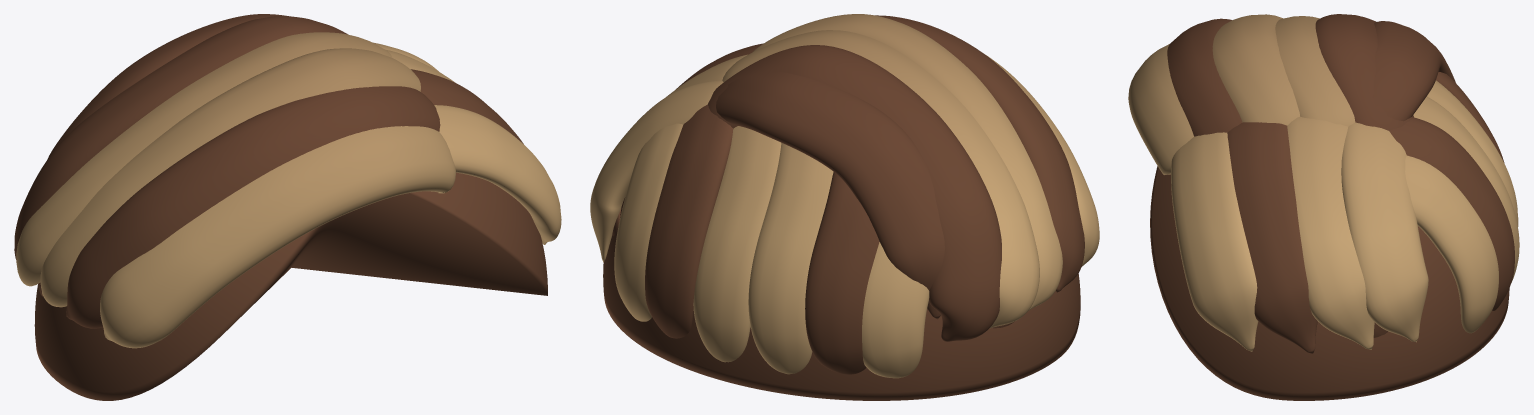
File: Highlights-05e11d5b8a1c251-hair.glb
3 views of the same model, side by side, from view 1: azimuth 30°, elevation 25°; view 2: azimuth 150°, elevation 25°; view 3: azimuth 270°, elevation 25° (orthographic). The views are drawn at different scales.
Visible parts, largest first — view 1: Recessed roots, Hair / Side part main 0, Hair / Side part main 1, Hair / Side part main 2, Hair / Side part main 3, Hair / Side part main 4, Hair / Side part short 0, Hair / Side part crown, Hair / Side part short 1, Hair / Side part short 2; view 2: Hair / Side part crown, Recessed roots, Hair / Side part main 4, Hair / Side part nape 2, Hair / Side part nape 3, Hair / Side part main 3, Hair / Side part nape 4, Hair / Side part main 2, Hair / Side part nape 1, Hair / Side part main 1, Hair / Side part nape 0, Hair / Side part nape 5 (+4 smaller); view 3: Recessed roots, Hair / Side part short 3, Hair / Side part short 0, Hair / Side part short 1, Hair / Side part short 2, Hair / Side part nape 5, Hair / Side part main 2, Hair / Side part nape 4, Hair / Side part main 1, Hair / Side part crown, Hair / Side part main 4, Hair / Side part main 3 (+4 smaller).
Part boxes in pixels (bbox=[...]): Recessed roots: bbox=[34, 172, 547, 400]; Hair / Side part main 0: bbox=[100, 126, 455, 348]; Hair / Side part main 1: bbox=[66, 86, 440, 328]; Hair / Side part main 2: bbox=[40, 48, 420, 307]; Hair / Side part main 3: bbox=[16, 32, 392, 286]; Hair / Side part main 4: bbox=[14, 16, 347, 259]; Hair / Side part short 0: bbox=[434, 105, 561, 244]; Hair / Side part crown: bbox=[47, 14, 288, 159]; Hair / Side part short 1: bbox=[411, 69, 523, 143]; Hair / Side part short 2: bbox=[385, 49, 455, 82]; Hair / Side part crown: bbox=[716, 72, 944, 319]; Recessed roots: bbox=[603, 197, 1080, 400]; Hair / Side part main 4: bbox=[708, 45, 1001, 341]; Hair / Side part nape 2: bbox=[748, 142, 833, 374]; Hair / Side part nape 3: bbox=[693, 126, 781, 362]; Hair / Side part main 3: bbox=[722, 30, 1039, 328]; Hair / Side part nape 4: bbox=[645, 104, 733, 338]; Hair / Side part main 2: bbox=[752, 14, 1062, 310]; Hair / Side part nape 1: bbox=[805, 172, 879, 374]; Hair / Side part main 1: bbox=[875, 15, 1084, 292]; Hair / Side part nape 0: bbox=[862, 242, 929, 378]; Hair / Side part nape 5: bbox=[614, 123, 682, 321]; Recessed roots: bbox=[1150, 166, 1509, 400]; Hair / Side part short 3: bbox=[1341, 122, 1428, 342]; Hair / Side part short 0: bbox=[1171, 132, 1258, 351]; Hair / Side part short 1: bbox=[1227, 122, 1317, 353]; Hair / Side part short 2: bbox=[1287, 116, 1374, 349]; Hair / Side part nape 5: bbox=[1405, 155, 1498, 333]; Hair / Side part main 2: bbox=[1212, 14, 1299, 125]; Hair / Side part nape 4: bbox=[1389, 117, 1514, 310]; Hair / Side part main 1: bbox=[1167, 18, 1242, 136]; Hair / Side part crown: bbox=[1372, 21, 1455, 121]; Hair / Side part main 4: bbox=[1315, 14, 1413, 130]; Hair / Side part main 3: bbox=[1275, 16, 1355, 126].
Bounding box in the file's own units: 0.9754 × 0.572 × 0.761.
